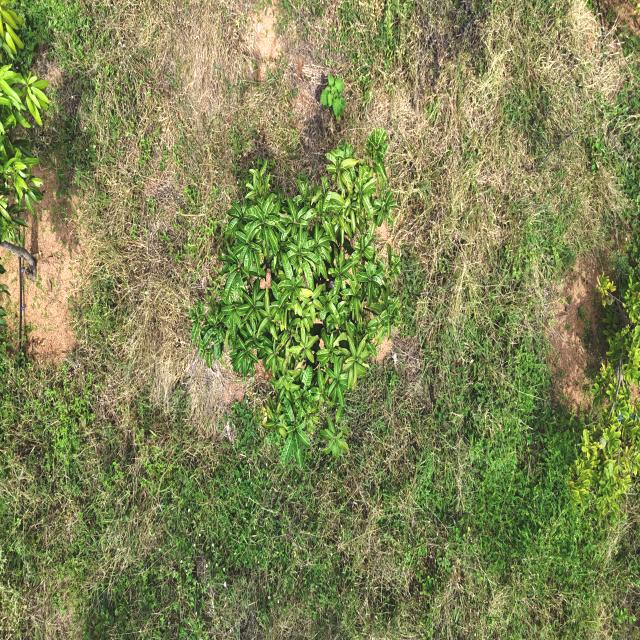mangoTree: (191, 138, 403, 480), (0, 0, 57, 253)
notMangoTree: (569, 225, 640, 517)
